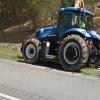Tractor: (13, 8, 100, 75)
